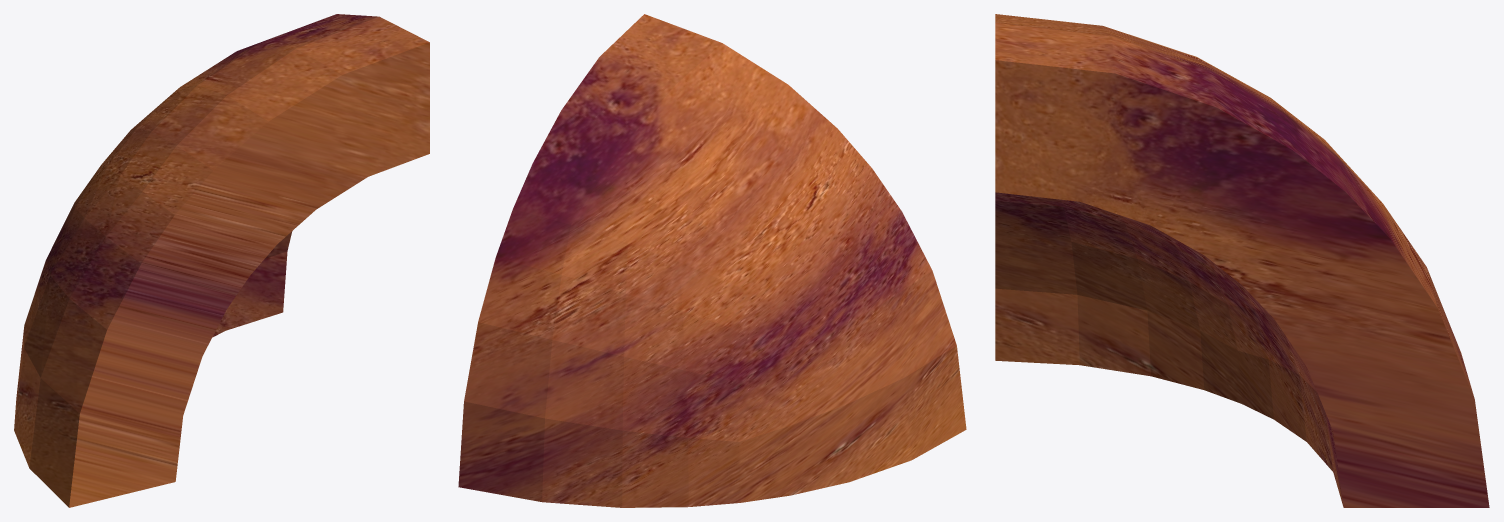
The model's file is obj_planet_piece_1.obj.
The picture shows the model from 3 angles, left to right: view 1: azimuth 30°, elevation 25°; view 2: azimuth 150°, elevation 25°; view 3: azimuth 270°, elevation 25°; orthographic projection. The views are drawn at different scales.
Parts seen in each view (by area): view 1: Cube.017_Cube.032; view 2: Cube.017_Cube.032; view 3: Cube.017_Cube.032.
Part boxes in pixels (bbox=[...]): Cube.017_Cube.032: bbox=[14, 14, 429, 507]; Cube.017_Cube.032: bbox=[458, 14, 966, 507]; Cube.017_Cube.032: bbox=[995, 14, 1489, 507].
Size of the model in its own units: 1.24 by 1.24 by 1.24.
Materials: 1 (1 with a texture image).
